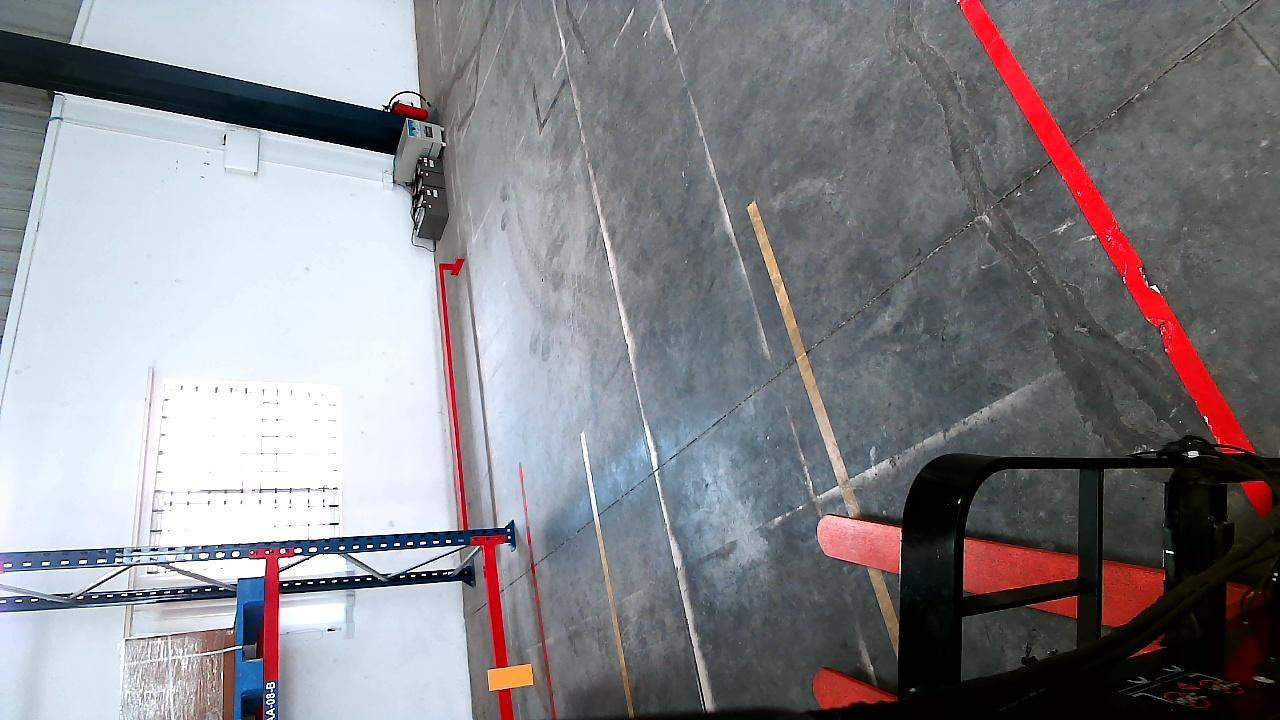red_line: (958, 0, 1244, 446)
yellow_line: (744, 197, 861, 516), (574, 425, 639, 720)
